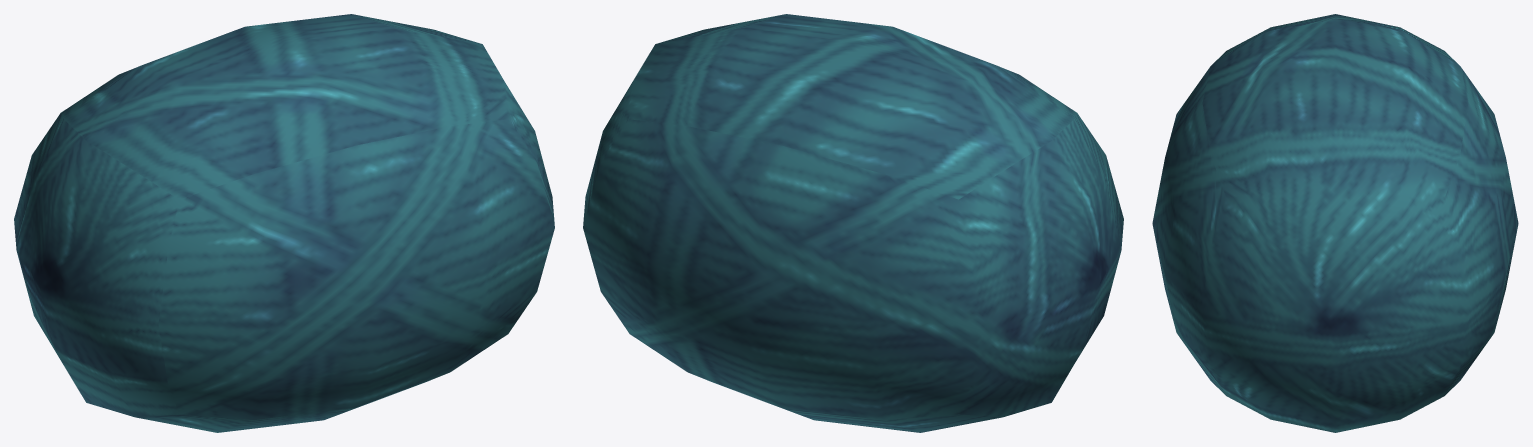
File: Modelos3D_Objetos_OvilloTex_Lucia.fbx
3 views of the same model, side by side, from view 1: azimuth 30°, elevation 25°; view 2: azimuth 150°, elevation 25°; view 3: azimuth 270°, elevation 25° (orthographic). The views are drawn at different scales.
Visible parts, largest first — view 1: Ovillo; view 2: Ovillo; view 3: Ovillo.
Part boxes in pixels (x1=…): Ovillo: x1=14, y1=14, x2=554, y2=432; Ovillo: x1=583, y1=14, x2=1123, y2=432; Ovillo: x1=1152, y1=14, x2=1518, y2=432.
Bounding box in the file's own units: 52.94 × 37.17 × 37.17.
1 material, 1 textured.
